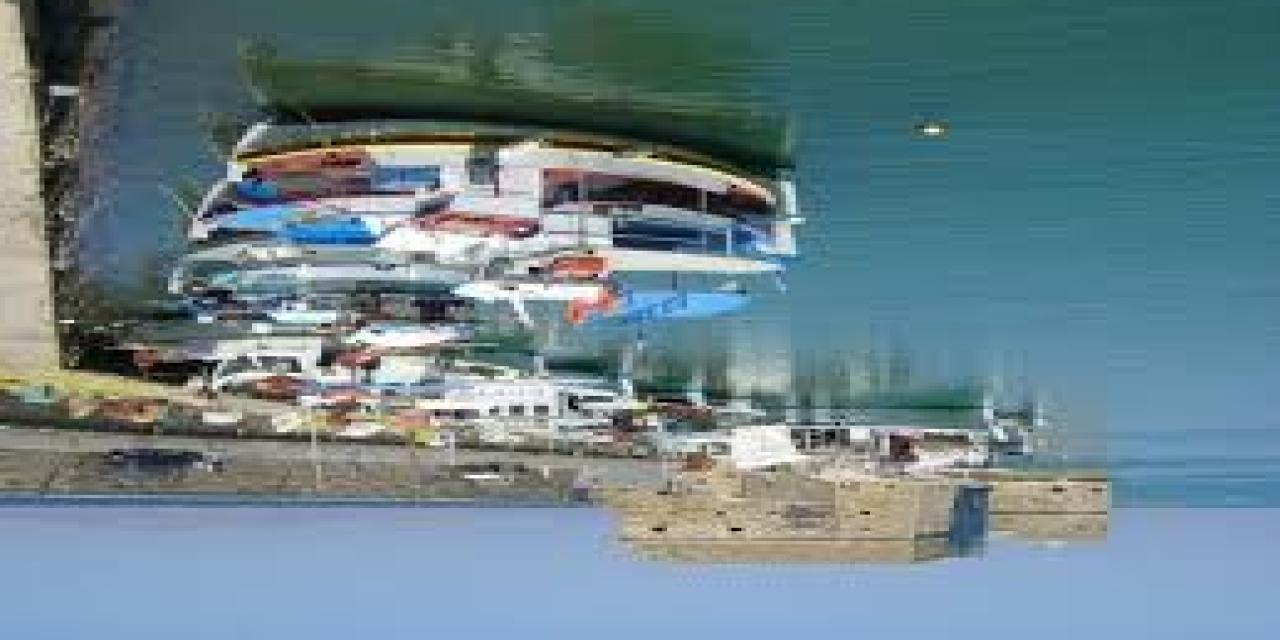Kules: (606, 476, 1114, 575)
